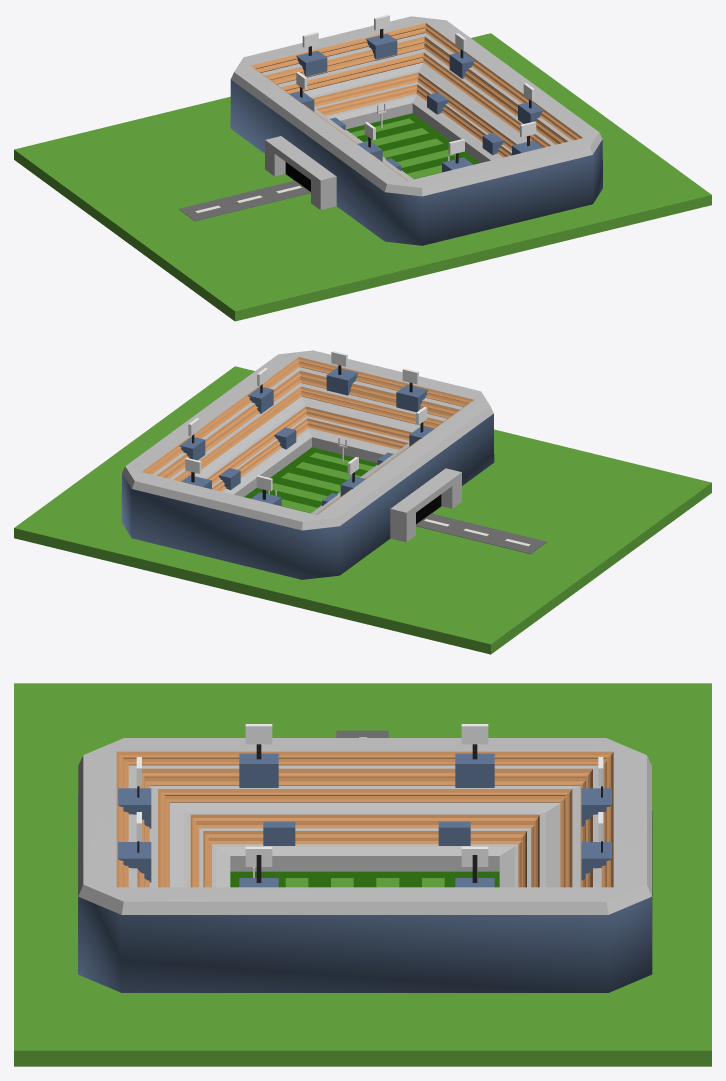
The model's file is sports-field.glb.
3 views of the same model, one above another, from view 1: azimuth 30°, elevation 25°; view 2: azimuth 150°, elevation 25°; view 3: azimuth 270°, elevation 25° (orthographic). The views are drawn at different scales.
Parts seen in each view (by area): view 1: Box007; view 2: Box007; view 3: Box007.
Boxes of the visible parts, x1,y1,x2,y2 form: Box007: (14, 14, 711, 321); Box007: (14, 350, 711, 654); Box007: (14, 683, 711, 1066).
Bounding box in the file's own units: 214 × 37.54 × 172.
